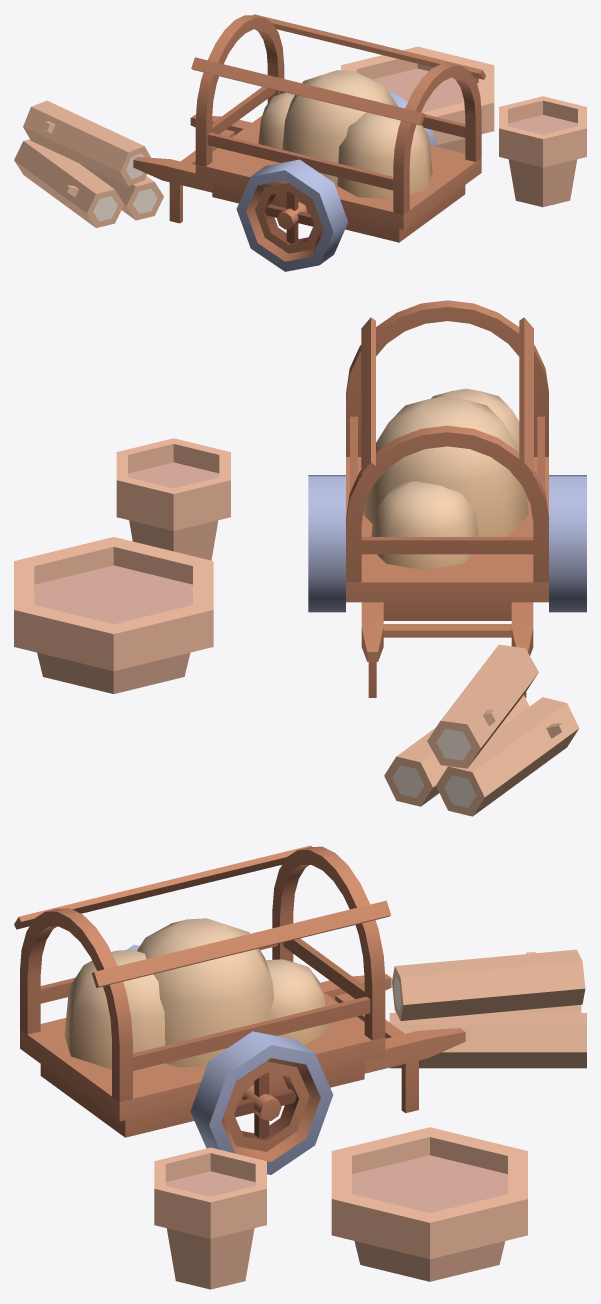
Rendered from realm_cache.glb.
The picture shows the model from 3 angles, top to bottom: view 1: azimuth 30°, elevation 25°; view 2: azimuth 150°, elevation 25°; view 3: azimuth 270°, elevation 25°; orthographic projection. The views are drawn at different scales.
Parts seen in each view (by area): view 1: realm_cache; view 2: realm_cache; view 3: realm_cache.
Boxes of the visible parts, <box> form: realm_cache: <box>14,14,586,271</box>; realm_cache: <box>14,300,586,816</box>; realm_cache: <box>14,845,586,1289</box>.
Bounding box in the file's own units: 0.8743 × 0.3889 × 0.7839.
8 materials, 1 textured.
